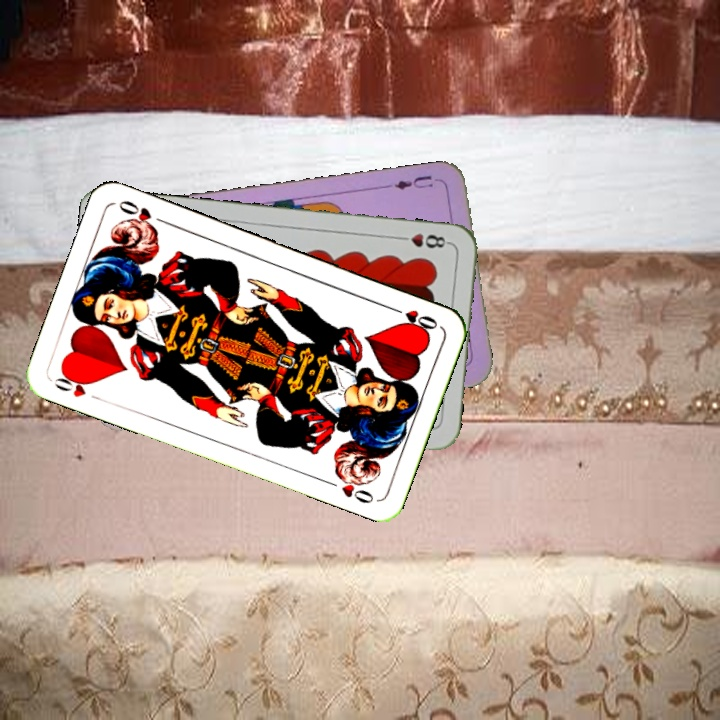EU: (390, 171, 435, 192)
H8: (393, 229, 452, 251)
HO: (51, 367, 105, 404), (385, 302, 441, 332)
